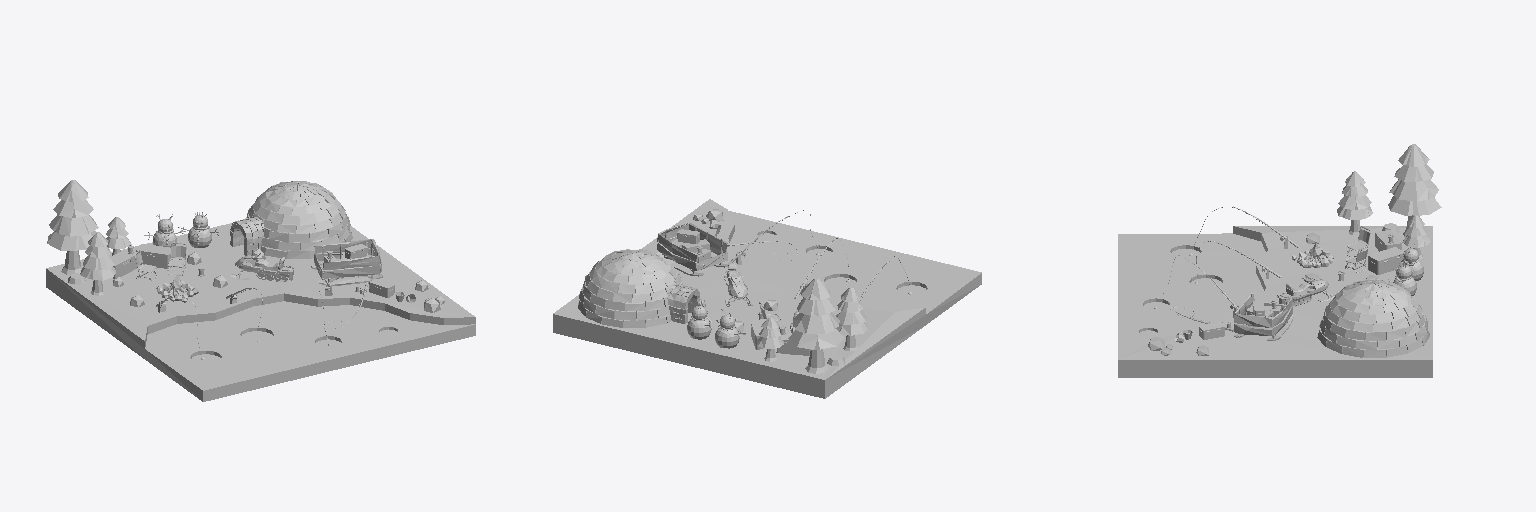
Rendered from igloo.obj.
3 views of the same model, side by side, from view 1: azimuth 30°, elevation 25°; view 2: azimuth 150°, elevation 25°; view 3: azimuth 270°, elevation 25° (orthographic).
Visible parts, largest first — view 1: plane_016, plane_015, Plane_000, tree_001, Plane_001, tree_003, Cube_000, Icosphere_000, snow_man_000, fish_box_000, tree_002, snow_man_001; view 2: plane_015, plane_016, Plane_000, tree_001, Plane_001, tree_003, tree_002, snow_man_001, Cube_000, snow_man_000; view 3: plane_015, plane_016, Plane_000, tree_001, Plane_001, tree_003, Cube_000, fish_box_000, tree_002, Icosphere_000.
Part boxes in pixels (x1,y1,x2,y2): plane_016: (145, 301, 475, 401); plane_015: (46, 223, 475, 359); Plane_000: (230, 181, 352, 258); tree_001: (47, 180, 98, 274); Plane_001: (311, 239, 382, 285); tree_003: (80, 232, 115, 295); Cube_000: (229, 251, 293, 281); Icosphere_000: (113, 249, 444, 312); snow_man_000: (178, 212, 218, 247); fish_box_000: (136, 244, 174, 268); tree_002: (106, 217, 131, 255); snow_man_001: (144, 214, 185, 247); plane_015: (553, 199, 925, 398); plane_016: (729, 211, 981, 325); Plane_000: (578, 249, 699, 327); tree_001: (788, 278, 843, 373); Plane_001: (656, 223, 728, 276); tree_003: (836, 287, 867, 350); tree_002: (757, 316, 783, 361); snow_man_001: (715, 309, 745, 348); Cube_000: (724, 264, 752, 306); snow_man_000: (687, 301, 711, 339); plane_015: (1118, 226, 1432, 377); plane_016: (1118, 233, 1265, 358); Plane_000: (1317, 279, 1429, 357); tree_001: (1388, 144, 1441, 237); Plane_001: (1234, 293, 1293, 340); tree_003: (1337, 171, 1372, 235); Cube_000: (1277, 275, 1336, 306); fish_box_000: (1368, 247, 1403, 274); tree_002: (1402, 215, 1430, 259); Icosphere_000: (1148, 232, 1378, 355).
Bounding box in the file's own units: 321 × 120 × 324.